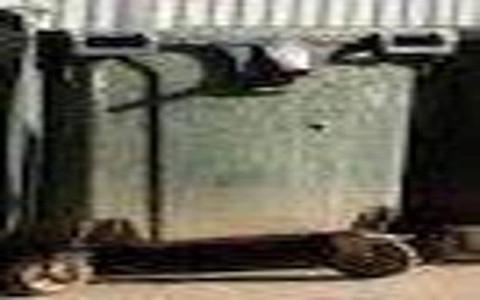Proper garbage: (45, 12, 434, 287)
